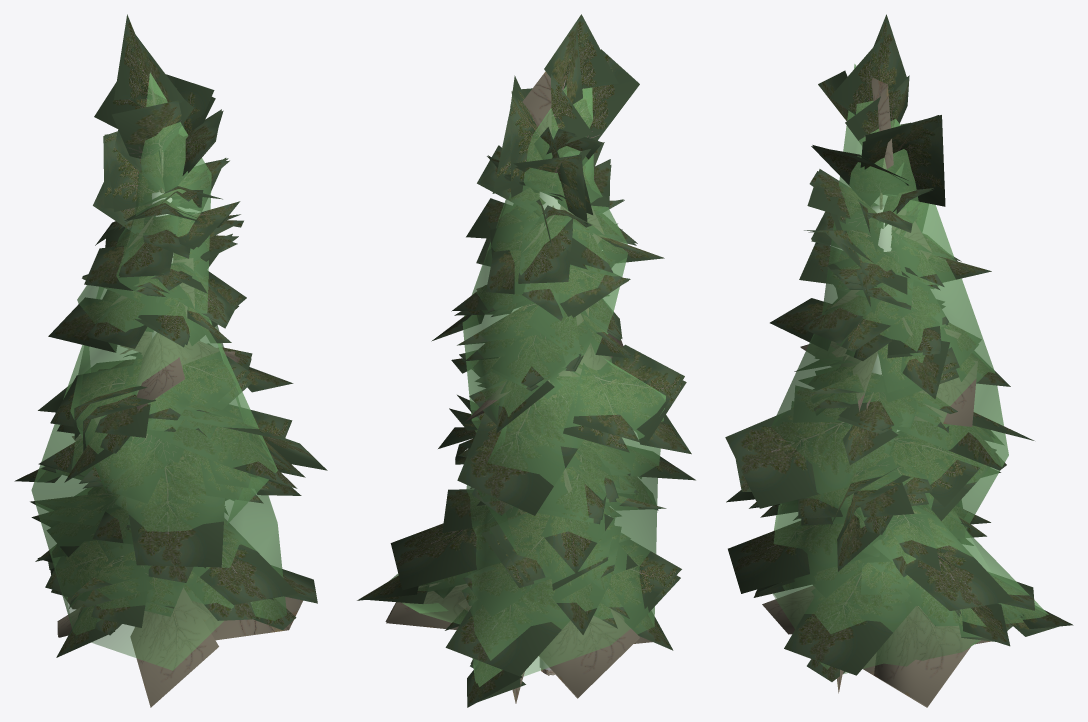
The model's file is tree_douglasfir_small_c.dae.
3 renders of one model, left to right at view 1: azimuth 30°, elevation 25°; view 2: azimuth 150°, elevation 25°; view 3: azimuth 270°, elevation 25°, orthographic. The views are drawn at different scales.
Parts seen in each view (by area): view 1: Colmesh_small_c-1, tree_douglasfir_small_c_a500, tree_douglasfir_small_c_a900, tree_douglasfir_small_c_a300; view 2: Colmesh_small_c-1, tree_douglasfir_small_c_a500, tree_douglasfir_small_c_a900, tree_douglasfir_small_c_a300; view 3: tree_douglasfir_small_c_a300, Colmesh_small_c-1, tree_douglasfir_small_c_a900, tree_douglasfir_small_c_a500.
Boxes of the visible parts, left/top/right/bottom form: Colmesh_small_c-1: left=31, top=72, right=286, bottom=670; tree_douglasfir_small_c_a500: left=14, top=33, right=327, bottom=707; tree_douglasfir_small_c_a900: left=31, top=14, right=305, bottom=657; tree_douglasfir_small_c_a300: left=57, top=101, right=317, bottom=640; Colmesh_small_c-1: left=389, top=86, right=665, bottom=686; tree_douglasfir_small_c_a500: left=385, top=14, right=695, bottom=707; tree_douglasfir_small_c_a900: left=361, top=75, right=691, bottom=704; tree_douglasfir_small_c_a300: left=357, top=31, right=639, bottom=706; tree_douglasfir_small_c_a300: left=725, top=35, right=1073, bottom=706; Colmesh_small_c-1: left=771, top=64, right=1048, bottom=674; tree_douglasfir_small_c_a900: left=736, top=14, right=1069, bottom=707; tree_douglasfir_small_c_a500: left=726, top=76, right=1072, bottom=673.
Bounding box in the file's own units: 3.19 × 3.82 × 7.78.
